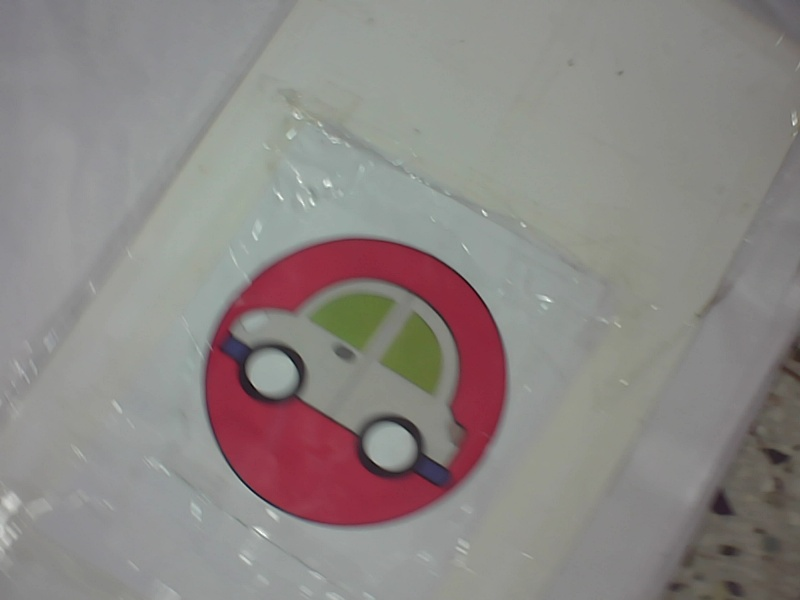areaC: (194, 228, 513, 533)
